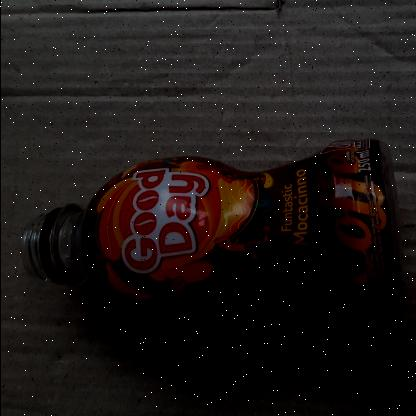Plastic Bottle: (0, 132, 416, 343)
